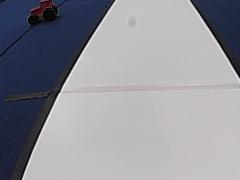Tracktor: (25, 0, 59, 27)
